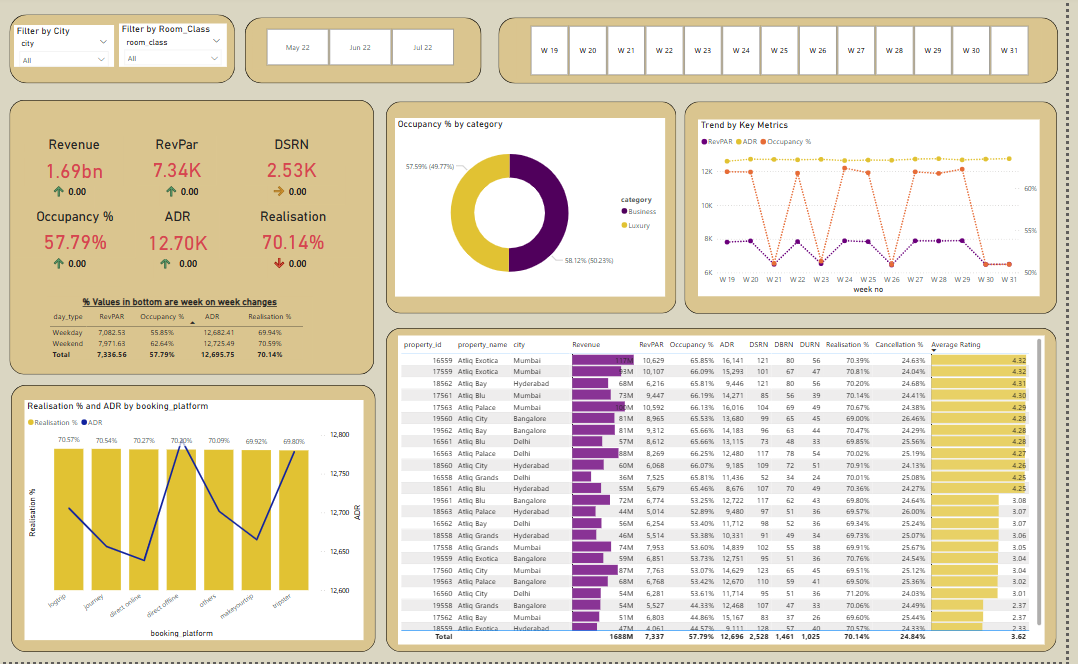

The dashboard page shown, as its layout file describes it:
{"tool":"powerbi","page":{"name":"Dashboard","canvas":[1920,1200],"ordinal":0},"visuals":[{"type":"shape","box":[696.3,599.1,1206.3,582.9],"z":0},{"type":"shape","box":[21.6,701.7,655.8,480.4],"z":1000},{"type":"shape","box":[697.1,191.9,522.2,381.3],"z":2000},{"type":"shape","box":[1234,192,670,382],"z":3000},{"type":"shape","box":[18.9,188.9,655.8,493.9],"z":4000},{"type":"shape","box":[19.4,34,405.6,123.9],"z":5000},{"type":"shape","box":[443.5,39.5,425.3,118.5],"z":6000},{"type":"shape","box":[898.7,40.5,1006.6,118.7],"z":7000},{"type":"tableEx","fields":{"Values":["dim_hotels.property_id","dim_hotels.property_name","dim_hotels.city","key_measures.Revenue","key_measures.RevPAR","key_measures.Occupancy %","key_measures.ADR","key_measures.DSRN","key_measures.DBRN","key_measures.DURN","key_measures.Realisation %","key_measures.Cancellation %"]},"box":[717.9,612.6,1163.1,555.9],"z":8000},{"type":"slicer","title":"Filter by City","fields":{"Values":["dim_hotels.city"]},"box":[26.7,53.4,179.7,75.3],"z":9000},{"type":"slicer","title":"Filter by Room_Class","fields":{"Values":["dim_rooms.room_class"]},"box":[216.2,51,194.3,77.7],"z":10000},{"type":"slicer","fields":{"Values":["dim_date.mmm yy"]},"box":[455.7,54.7,385.8,79],"z":11000},{"type":"slicer","fields":{"Values":["dim_date.week no"]},"box":[931.1,48.6,944.5,102.6],"z":12000},{"type":"donutChart","fields":{"Category":["dim_hotels.category"],"Y":["key_measures.Occupancy %"]},"box":[712.5,221.3,485.8,321.1],"z":13000},{"type":"tableEx","fields":{"Values":["key_measures.Revenue WoW change %"]},"box":[86,308,86,78],"z":14000},{"type":"lineStackedColumnComboChart","fields":{"Category":["Fact_bookings.booking_platform"],"Y":["key_measures.Realisation %"],"Y2":["key_measures.ADR"]},"box":[45.9,728.7,609.9,431.8],"z":15000},{"type":"lineChart","title":"Trend by Key Metrics","fields":{"Category":["dim_date.week no"],"Y":["key_measures.RevPAR","key_measures.ADR"],"Y2":["key_measures.Occupancy %"]},"box":[1258.1,223.5,614.5,318.2],"z":16000},{"type":"pivotTable","title":"% Values in bottom are week on week changes","fields":{"Rows":["dim_date.day_type"],"Values":["key_measures.RevPAR","key_measures.Occupancy %","key_measures.ADR","key_measures.Realisation %"]},"box":[86.4,542.4,477.7,121.4],"z":17000},{"type":"tableEx","fields":{"Values":["key_measures.Revpar WoW change %"]},"box":[288.8,307.7,121.4,72.9],"z":18000},{"type":"tableEx","fields":{"Values":["key_measures.DSRN WoW change %"]},"box":[483.1,307.7,140.3,70.2],"z":19000},{"type":"tableEx","fields":{"Values":["key_measures.Occupancy WoW change %"]},"box":[86.4,437.2,134.9,86.4],"z":20000},{"type":"tableEx","fields":{"Values":["key_measures.ADR WoW change %"]},"box":[278,437.2,124.1,72.9],"z":21000},{"type":"card","title":"Revenue","fields":{"Values":["key_measures.Revenue"]},"box":[46,254,178,90],"z":22000},{"type":"card","title":"RevPar","fields":{"Values":["key_measures.RevPAR"]},"box":[248.3,253.7,143,89.1],"z":23000},{"type":"card","title":"DSRN","fields":{"Values":["key_measures.DSRN"]},"box":[442.6,253.7,167.3,89.1],"z":24000},{"type":"tableEx","fields":{"Values":["key_measures.Realisation WoW change %"]},"box":[483.1,437.2,118.7,72.9],"z":25000},{"type":"card","title":"Realisation","fields":{"Values":["key_measures.Realisation %"]},"box":[410.2,383.2,237.5,89.1],"z":26000},{"type":"card","title":"ADR","fields":{"Values":["key_measures.ADR"]},"box":[245.6,383.2,151.1,91.8],"z":27000},{"type":"card","title":"Occupancy %","fields":{"Values":["key_measures.Occupancy %"]},"box":[27,383.2,218.6,89.1],"z":28000}]}

Visuals, with their boxes in screenshot pixels (x1, y1, x2, y2), scaled from the page's 1920x1200 canvas onto the 1078x664 screenshot:
shape: [391, 332, 1068, 654]
shape: [12, 388, 380, 654]
shape: [391, 106, 685, 317]
shape: [693, 106, 1069, 318]
shape: [11, 105, 379, 378]
shape: [11, 19, 239, 87]
shape: [249, 22, 488, 87]
shape: [505, 22, 1070, 88]
tableEx - dim_hotels.property_id x dim_hotels.property_name: [403, 339, 1056, 647]
"Filter by City" slicer: [15, 30, 116, 71]
"Filter by Room_Class" slicer: [121, 28, 230, 71]
slicer - dim_date.mmm yy: [256, 30, 472, 74]
slicer - dim_date.week no: [523, 27, 1053, 84]
donutChart - dim_hotels.category x key_measures.Occupancy %: [400, 122, 673, 300]
tableEx - key_measures.Revenue WoW change %: [48, 170, 97, 214]
lineStackedColumnComboChart - Fact_bookings.booking_platform x key_measures.Realisation %: [26, 403, 368, 642]
"Trend by Key Metrics" lineChart: [706, 124, 1051, 300]
"% Values in bottom are week on week changes" pivotTable: [49, 300, 317, 367]
tableEx - key_measures.Revpar WoW change %: [162, 170, 230, 211]
tableEx - key_measures.DSRN WoW change %: [271, 170, 350, 209]
tableEx - key_measures.Occupancy WoW change %: [49, 242, 124, 290]
tableEx - key_measures.ADR WoW change %: [156, 242, 226, 282]
"Revenue" card: [26, 141, 126, 190]
"RevPar" card: [139, 140, 220, 190]
"DSRN" card: [249, 140, 342, 190]
tableEx - key_measures.Realisation WoW change %: [271, 242, 338, 282]
"Realisation" card: [230, 212, 364, 261]
"ADR" card: [138, 212, 223, 263]
"Occupancy %" card: [15, 212, 138, 261]
